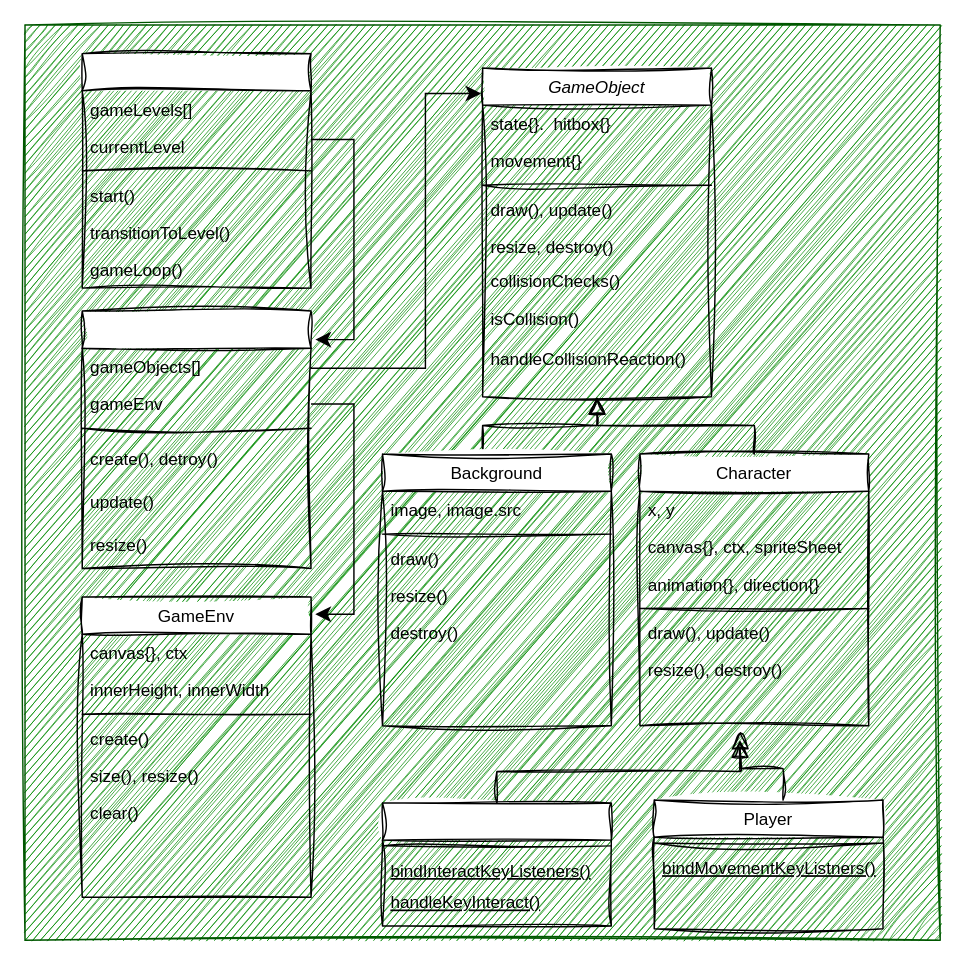
Some shapes in this 965 by 964 pixel diagram are drawn without their labels. Each missing label, with the box of its shape:
GameControl: (81, 52, 311, 288)
GameLevel: (81, 310, 311, 568)
NPC: (381, 802, 611, 926)
